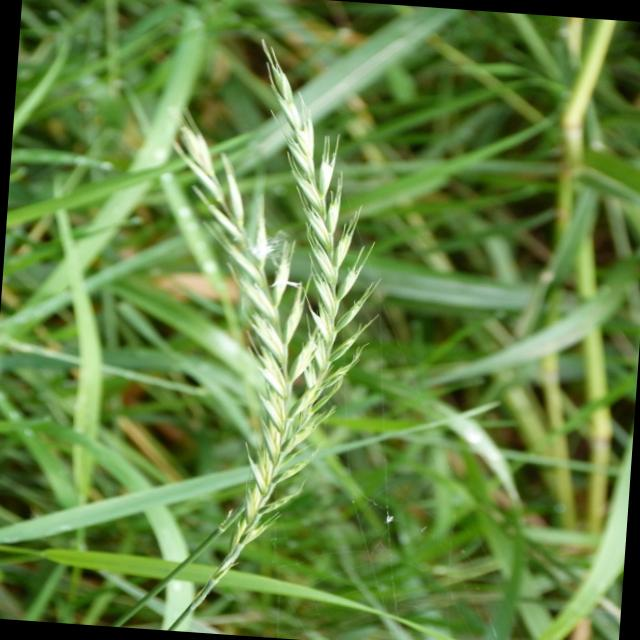Lolium: (130, 29, 402, 640)
